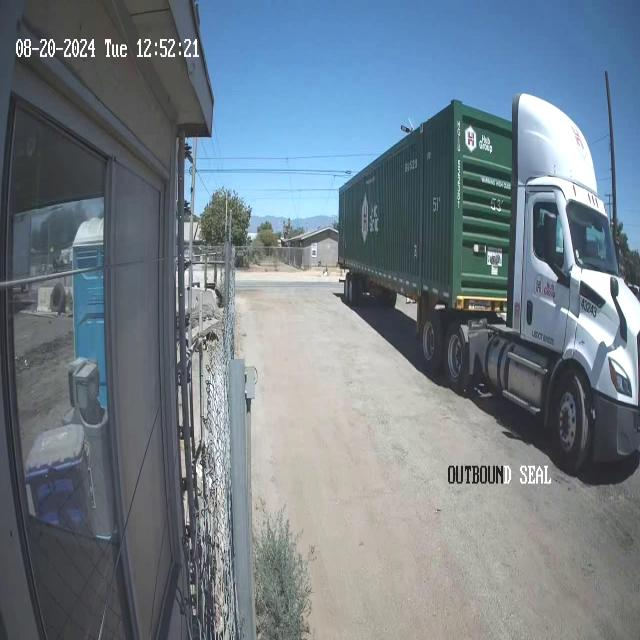CONTAINER: (336, 90, 518, 318)
